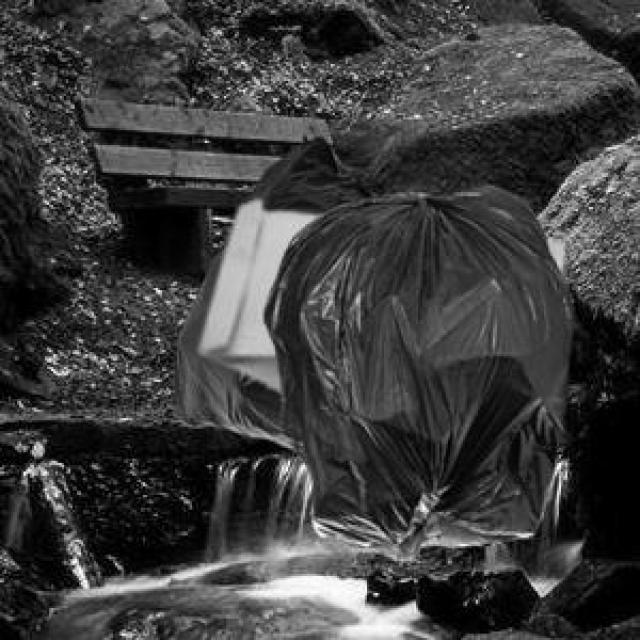miscellaneous trash: (260, 181, 570, 557), (171, 132, 369, 444)
paper: (196, 198, 356, 386)
